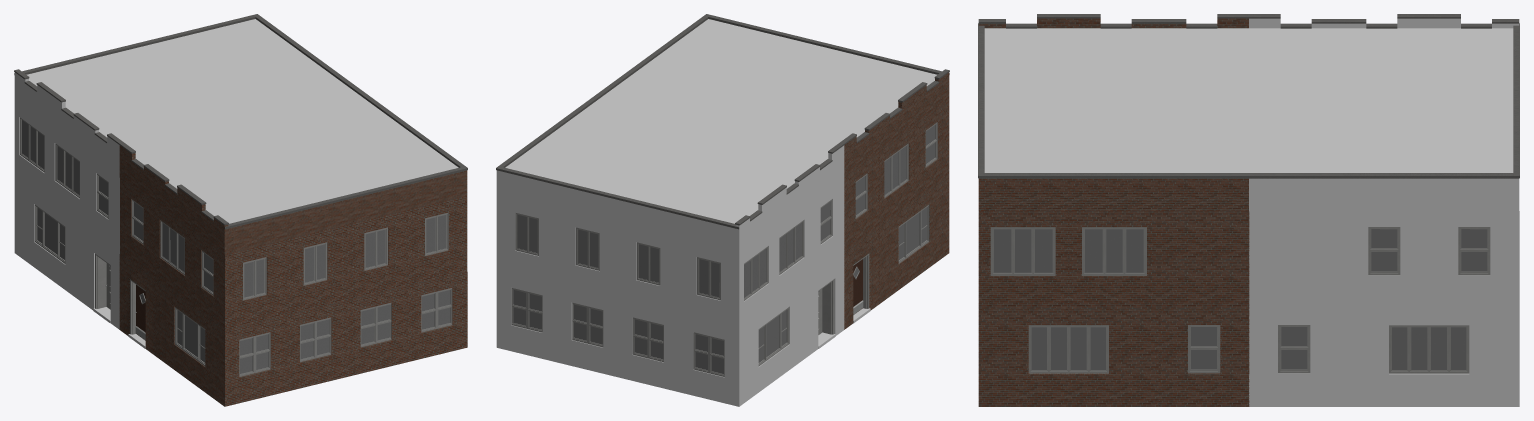
The model's file is SM_Bp_Building03_C_1.gltf.
3 views of the same model, side by side, from view 1: azimuth 30°, elevation 25°; view 2: azimuth 150°, elevation 25°; view 3: azimuth 270°, elevation 25° (orthographic). The views are drawn at different scales.
Visible parts, largest first — view 1: SM_Bp_Building03_C_1_Merged; view 2: SM_Bp_Building03_C_1_Merged; view 3: SM_Bp_Building03_C_1_Merged.
Boxes of the visible parts, <box> form: SM_Bp_Building03_C_1_Merged: <box>14,14,467,406</box>; SM_Bp_Building03_C_1_Merged: <box>496,14,949,406</box>; SM_Bp_Building03_C_1_Merged: <box>978,14,1519,406</box>.
Size of the model in its own units: 10.04 by 7.36 by 15.04.
